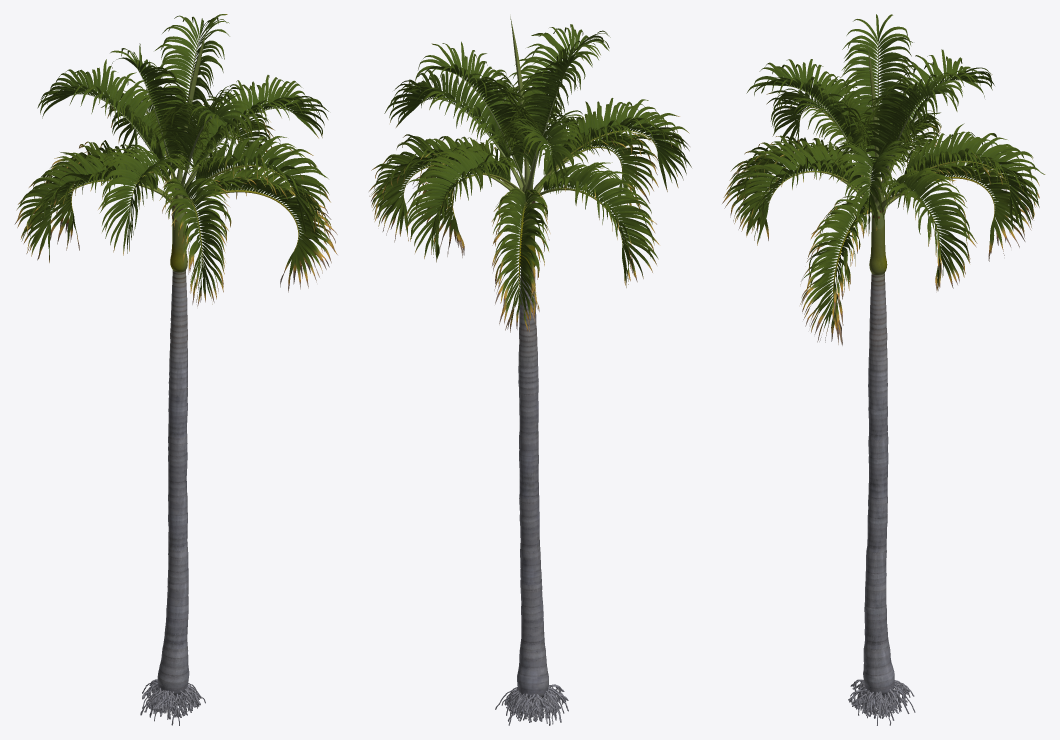
Rendered from christmas_palm.glb.
3 renders of one model, left to right at view 1: azimuth 30°, elevation 25°; view 2: azimuth 150°, elevation 25°; view 3: azimuth 270°, elevation 25°, orthographic.
Parts seen in each view (by area): view 1: Adonidia_merrillii_HD; view 2: Adonidia_merrillii_HD; view 3: Adonidia_merrillii_HD.
Boxes of the visible parts, left/top/right/bottom form: Adonidia_merrillii_HD: left=14, top=14, right=337, bottom=725; Adonidia_merrillii_HD: left=369, top=16, right=691, bottom=725; Adonidia_merrillii_HD: left=722, top=14, right=1045, bottom=725.
Bounding box in the file's own units: 2.74 × 6.37 × 2.72.
8 materials, 8 textured.
